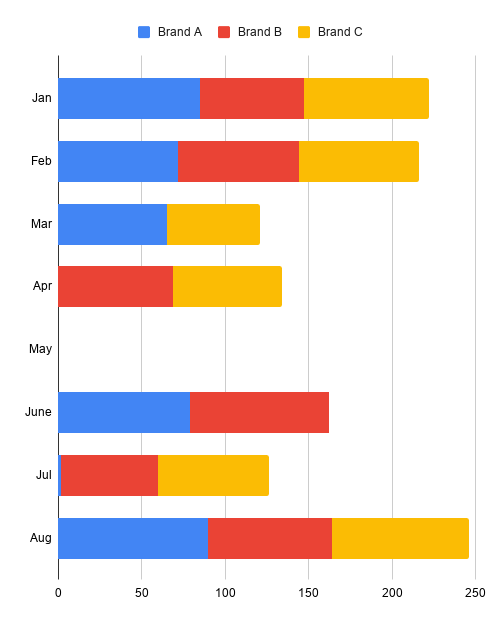canvas: (56, 52, 479, 570)
legend: (130, 18, 368, 45)
x-labels: (46, 583, 491, 604)
y-labels: (21, 81, 54, 548)
